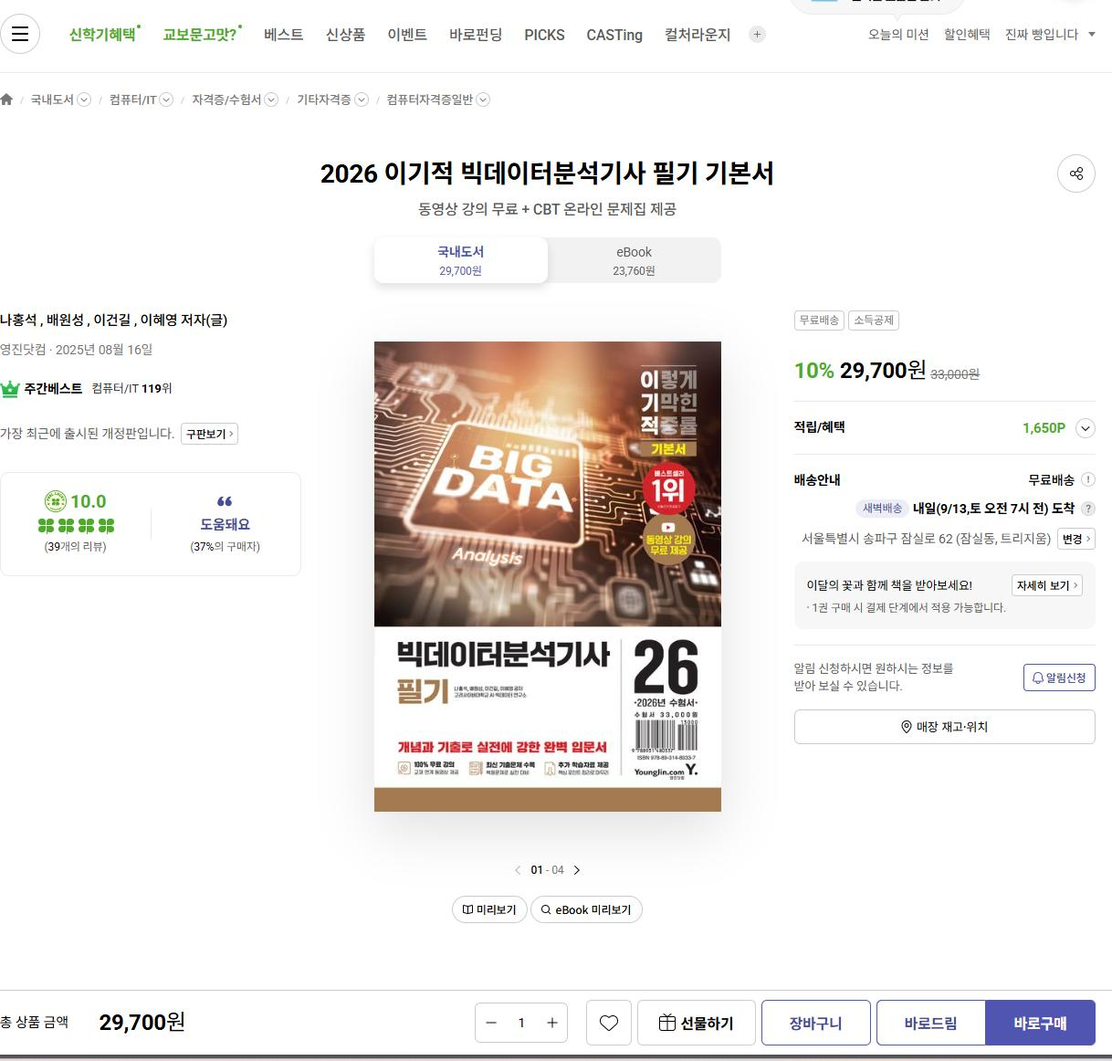button: (791, 703, 1101, 749), (555, 233, 723, 287), (376, 234, 550, 286), (640, 997, 755, 1044), (764, 999, 871, 1045), (878, 998, 981, 1045), (988, 1002, 1098, 1045), (531, 891, 646, 928), (474, 1001, 568, 1044), (64, 12, 151, 53), (158, 16, 252, 53), (1017, 659, 1100, 695), (450, 891, 528, 928), (861, 16, 935, 49), (1048, 150, 1100, 195), (1011, 571, 1087, 601), (587, 996, 632, 1045), (663, 19, 736, 49), (442, 17, 508, 49), (580, 22, 652, 50), (2, 11, 44, 55), (179, 419, 240, 449), (514, 21, 574, 49), (941, 19, 995, 50), (321, 17, 373, 49), (259, 18, 314, 48), (380, 19, 434, 47), (1055, 526, 1101, 553), (745, 21, 769, 46), (1, 89, 19, 112), (570, 859, 587, 880), (506, 862, 523, 880)
checkbox: (382, 85, 496, 113), (1002, 19, 1101, 49), (186, 85, 282, 114), (1022, 412, 1099, 446), (295, 86, 373, 115), (103, 86, 178, 115), (25, 87, 99, 115)
